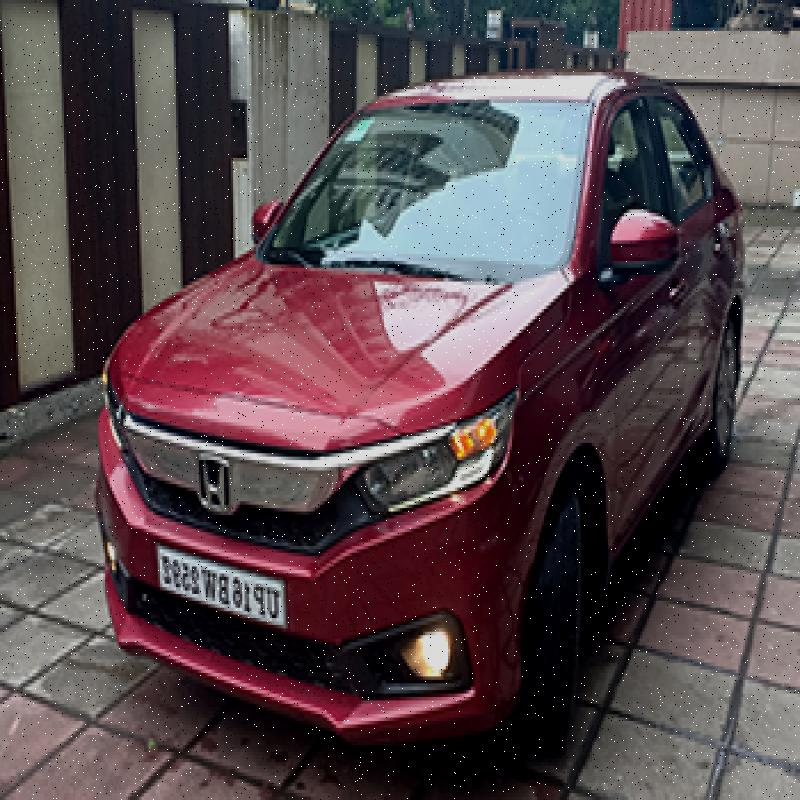car: (101, 31, 731, 709)
